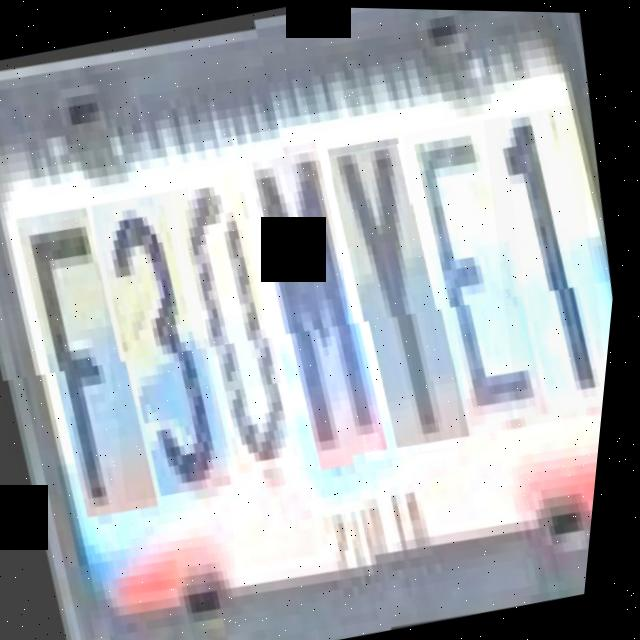0: (151, 163, 326, 480)
1: (463, 99, 633, 425)
3: (74, 185, 254, 503)
E: (383, 111, 571, 440)
F: (0, 198, 182, 526)
M: (227, 139, 414, 475)
Y: (310, 135, 493, 462)
